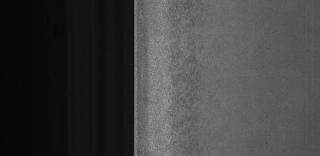silk spot: (163, 14, 205, 136)
